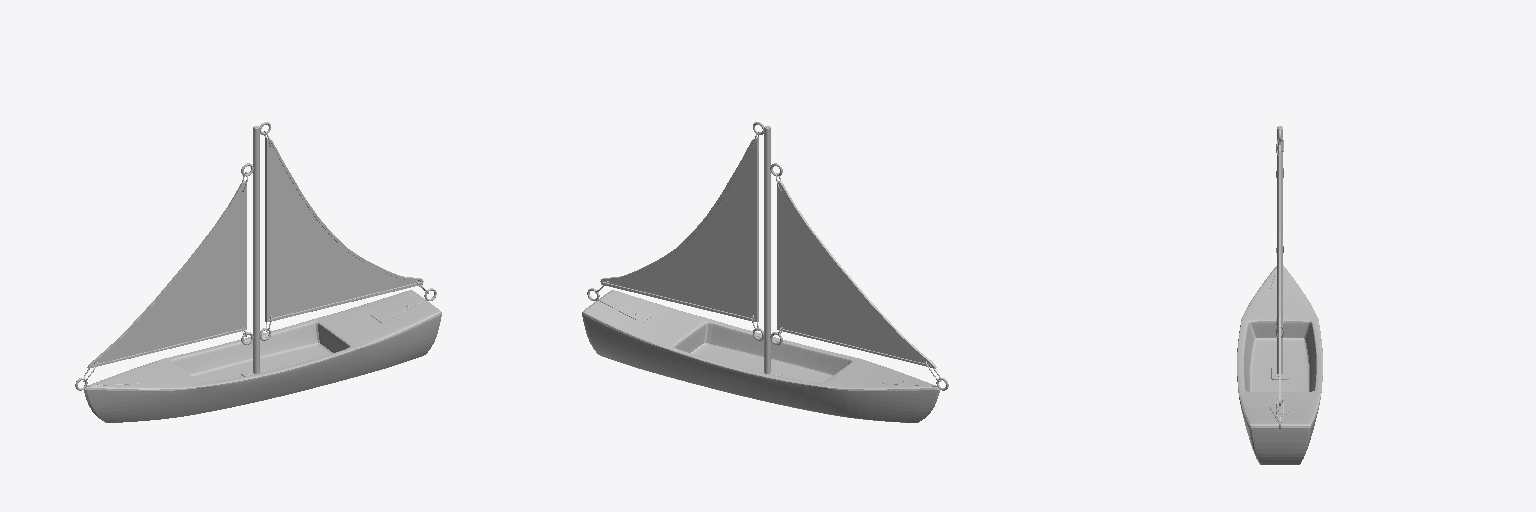
Rendered from boat.obj.
3 views of the same model, side by side, from view 1: azimuth 30°, elevation 25°; view 2: azimuth 150°, elevation 25°; view 3: azimuth 270°, elevation 25° (orthographic).
Parts seen in each view (by area): view 1: arch40_077_01, arch40_077_12, arch40_077_19, arch40_077_02; view 2: arch40_077_01, arch40_077_12, arch40_077_19, arch40_077_02; view 3: arch40_077_01, arch40_077_02.
Part boxes in pixels (bbox=[...]): arch40_077_01: bbox=[84, 290, 441, 422]; arch40_077_12: bbox=[265, 137, 423, 321]; arch40_077_19: bbox=[87, 181, 246, 368]; arch40_077_02: bbox=[253, 126, 259, 373]; arch40_077_01: bbox=[582, 290, 939, 422]; arch40_077_12: bbox=[600, 137, 758, 321]; arch40_077_19: bbox=[777, 181, 936, 368]; arch40_077_02: bbox=[764, 126, 770, 373]; arch40_077_01: bbox=[1237, 265, 1322, 464]; arch40_077_02: bbox=[1277, 126, 1282, 373].
Size of the model in its own units: 145 by 101 by 30.06.